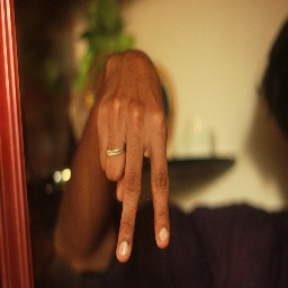Y: (89, 85, 177, 268)
